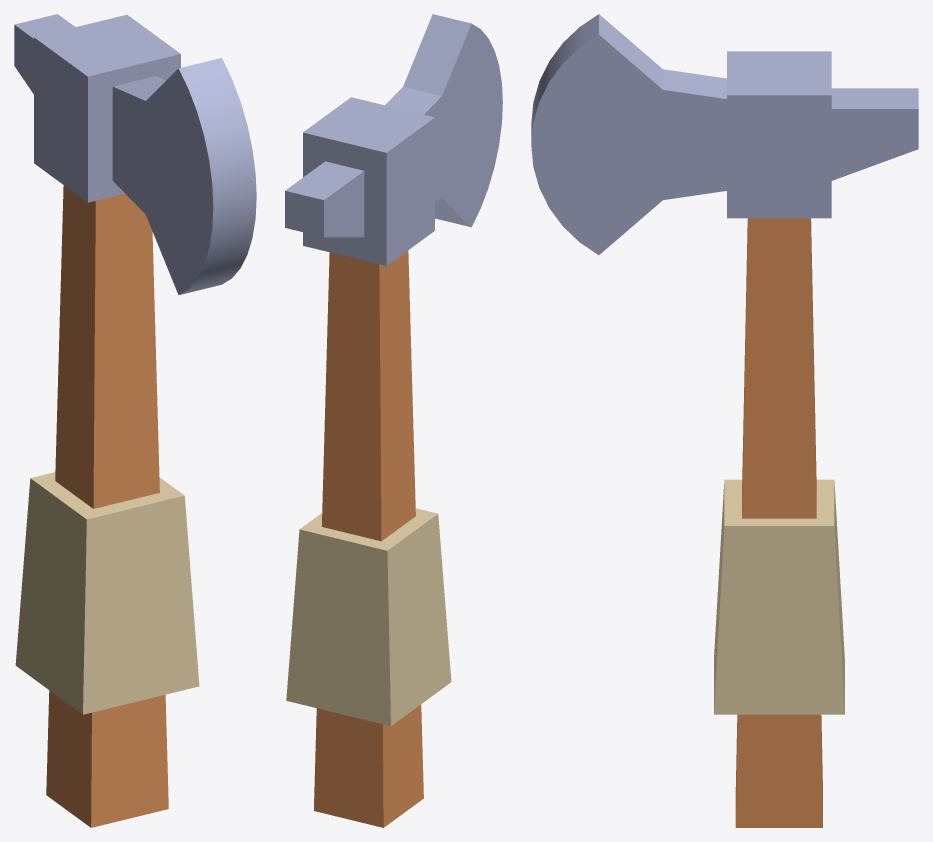
The model's file is toolAxe.dae.
The picture shows the model from 3 angles, left to right: view 1: azimuth 30°, elevation 25°; view 2: azimuth 150°, elevation 25°; view 3: azimuth 270°, elevation 25°; orthographic projection. The views are drawn at different scales.
Parts seen in each view (by area): view 1: toolAxe; view 2: toolAxe; view 3: toolAxe.
Boxes of the visible parts, x1,y1,x2,y2 form: toolAxe: (14, 14, 256, 827); toolAxe: (285, 14, 502, 827); toolAxe: (531, 14, 918, 827).
Size of the model in its own units: 0.1548 by 1.02 by 0.4579.
